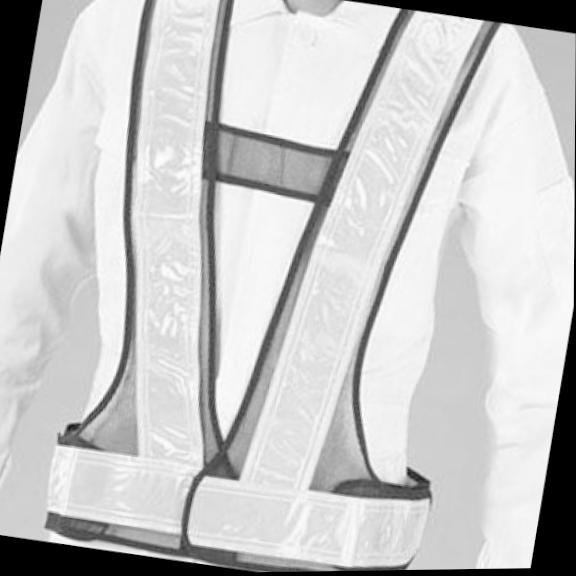safety_vest: (37, 0, 512, 575)
